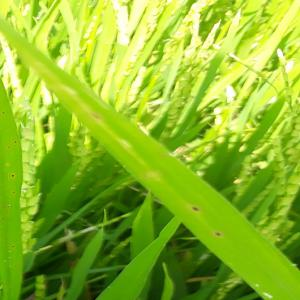Brown_Spot: (210, 228, 226, 240), (188, 202, 202, 215), (7, 171, 18, 179), (6, 144, 15, 152), (1, 108, 8, 116), (11, 139, 20, 145), (11, 189, 18, 196)
